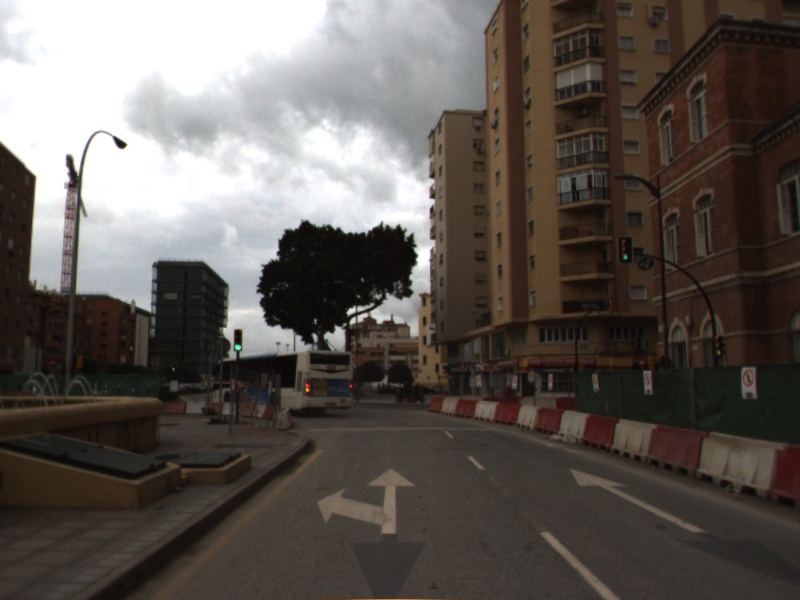STRAIGHT: (567, 466, 711, 534)
STRAIGHT_LEFT: (315, 464, 419, 537)
